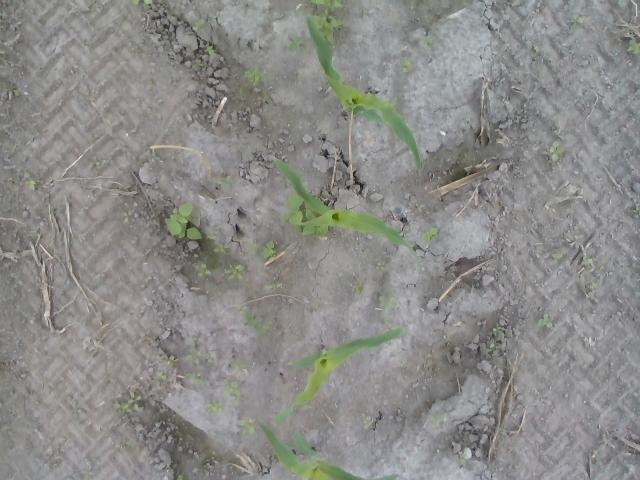Maize: (304, 13, 424, 174), (271, 155, 419, 256), (269, 326, 404, 425), (257, 417, 400, 480)
Weeds: (162, 200, 203, 241), (306, 0, 344, 44), (279, 191, 312, 226), (236, 304, 268, 334), (112, 390, 144, 414), (184, 349, 214, 369), (242, 63, 266, 86), (223, 379, 241, 406), (378, 286, 400, 308), (207, 231, 228, 254), (287, 30, 307, 54), (192, 256, 212, 280), (223, 264, 247, 282), (297, 224, 330, 237), (261, 238, 279, 260), (546, 142, 565, 161), (238, 416, 256, 436), (184, 371, 208, 386), (351, 272, 364, 296), (400, 56, 417, 74), (536, 312, 553, 329), (232, 358, 252, 372), (624, 39, 640, 56), (190, 57, 206, 74), (492, 318, 506, 337), (162, 352, 178, 368), (421, 226, 439, 240), (207, 398, 221, 416), (422, 35, 439, 49), (192, 18, 209, 32), (23, 176, 37, 192), (154, 371, 172, 383), (130, 0, 154, 8), (217, 174, 232, 186), (122, 209, 134, 224), (205, 44, 218, 56), (363, 416, 374, 430), (270, 277, 284, 288), (581, 254, 593, 266), (208, 448, 220, 460), (0, 48, 9, 64), (570, 15, 584, 25), (246, 239, 256, 253), (258, 94, 270, 104), (590, 277, 600, 289), (432, 414, 444, 424), (414, 202, 426, 211), (375, 262, 385, 272), (303, 400, 313, 410), (631, 207, 640, 218), (456, 451, 464, 463), (399, 359, 408, 369), (174, 472, 184, 480), (383, 326, 396, 332), (487, 344, 496, 352)
